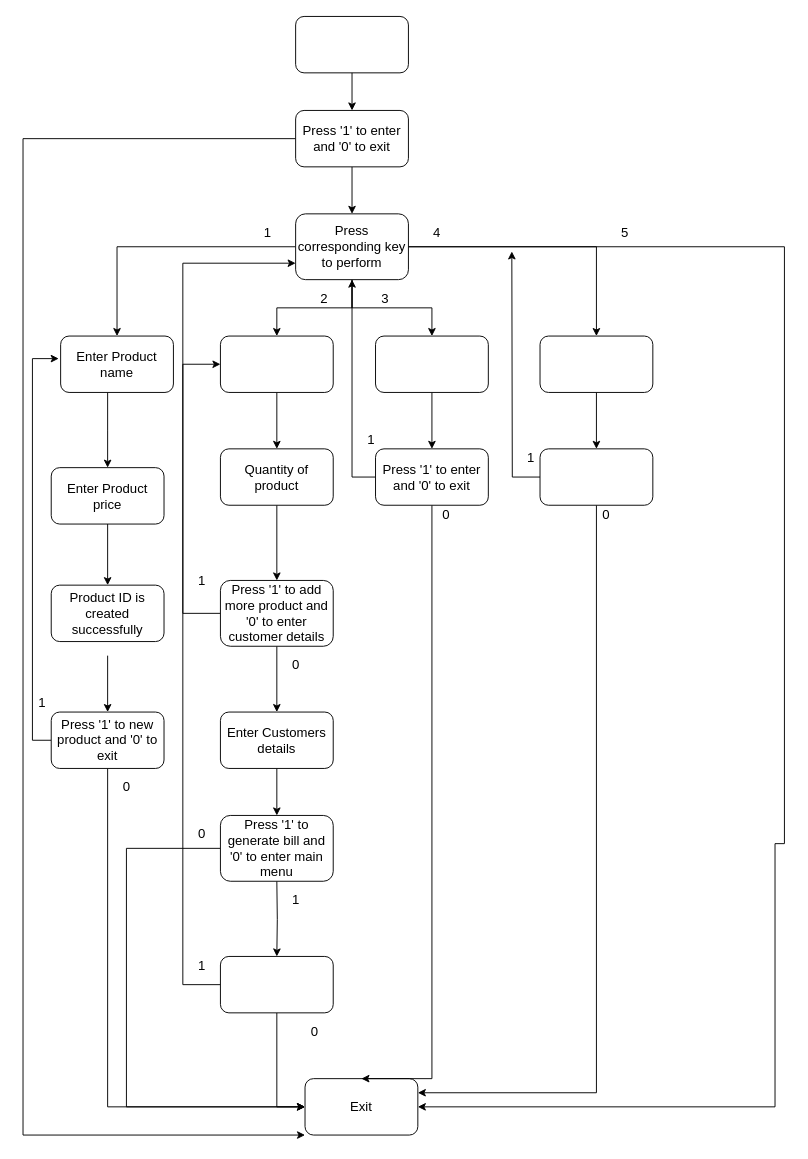
Some shapes in this 808 by 1159 pixel diagram are drawn without their labels. Here are the shapes that lost their labels. From the top down, the centre of each, then its label:
At [351,44]: "Start".
At [276,363]: "Enter Product ID which is created in add product".
At [431,363]: "Enter Bill ID to display bill".
At [596,363]: "Enter Bill ID to delete bill".
At [596,476]: "Bill Id does not exit, Press '1' to enter and '0' to exit".
At [276,984]: "Bill gets generated Press '1' to enter and '0' to exit".
